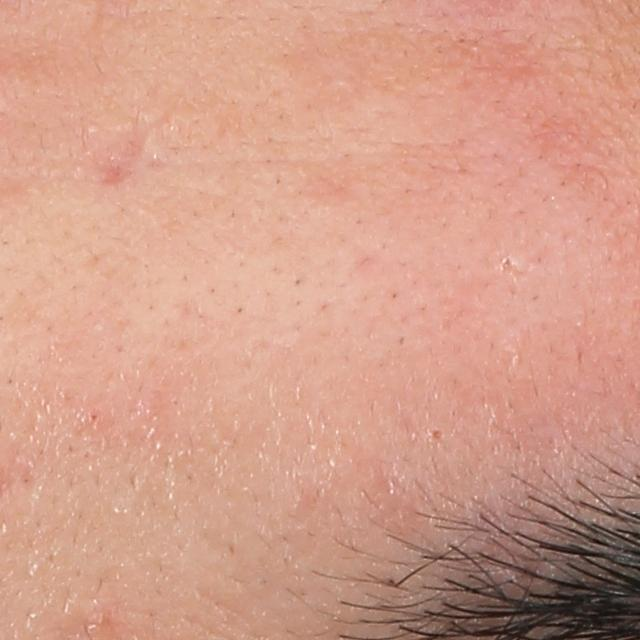atrophic_scar: (80, 107, 157, 192)
comedo: (427, 424, 446, 443)
